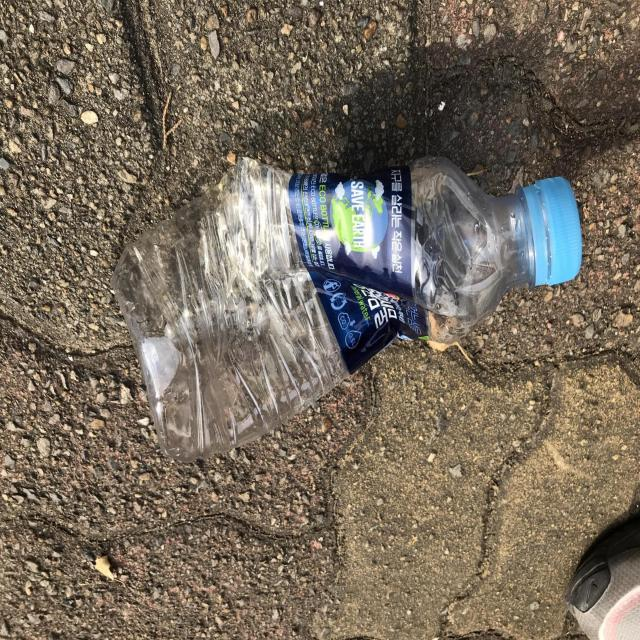plastic: (112, 156, 583, 462)
